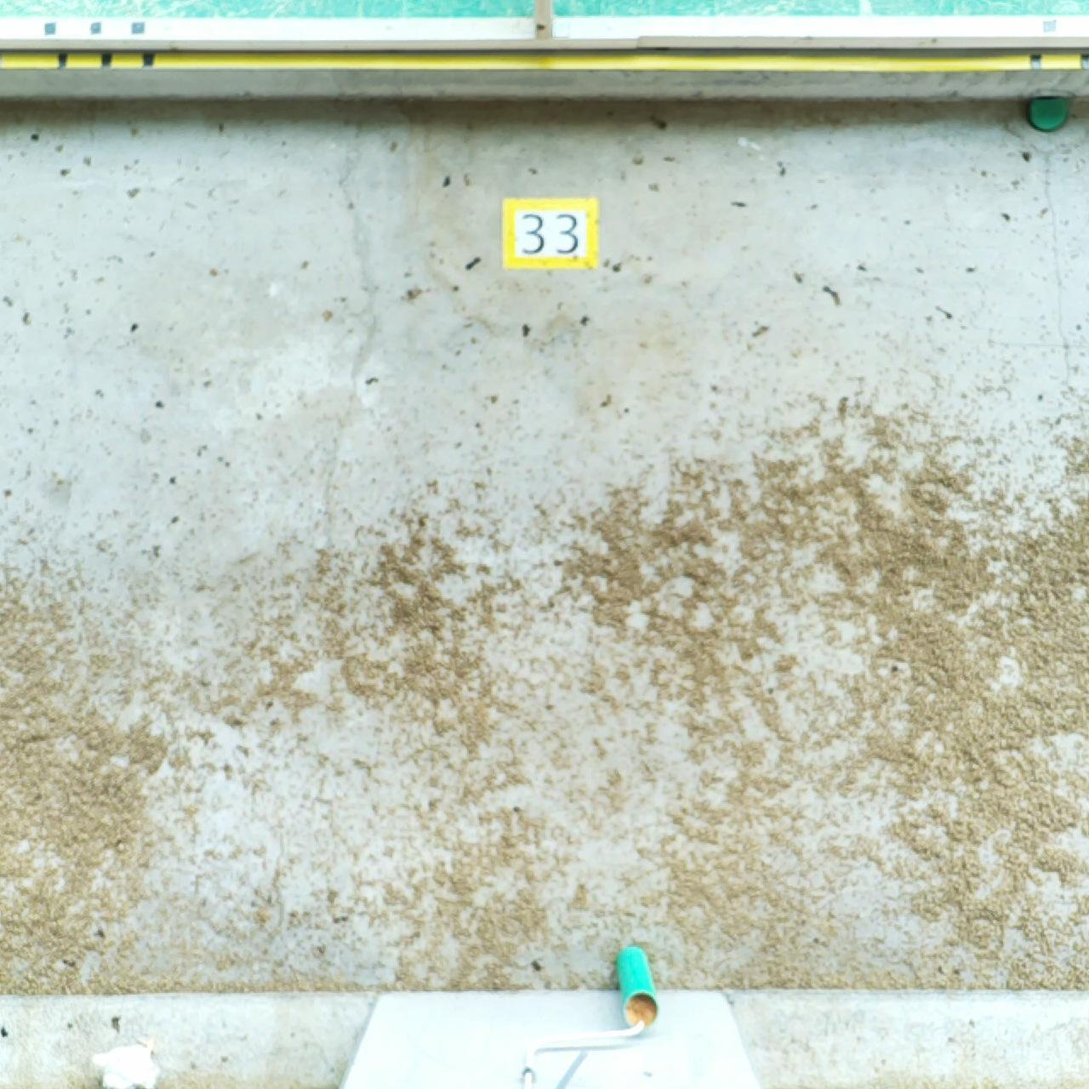chicken: (93, 1036, 160, 1089)
